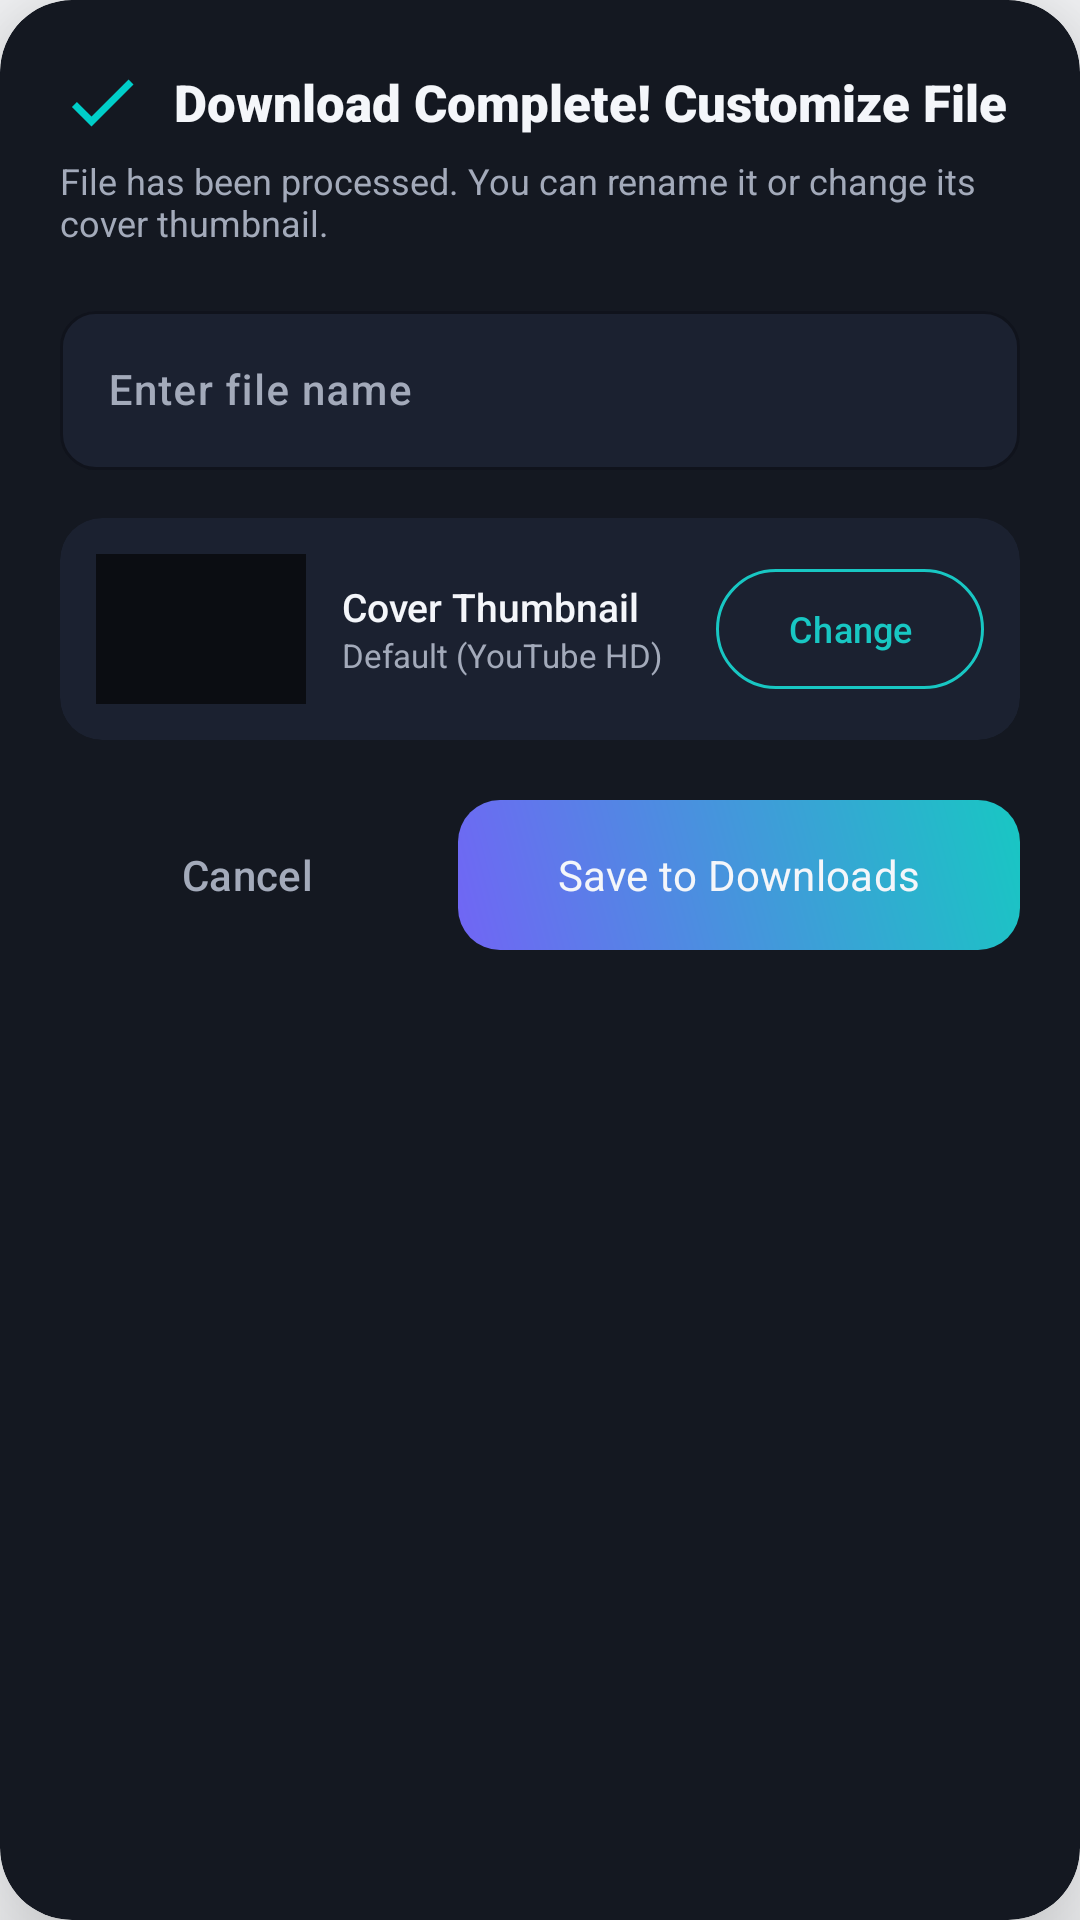

Screen size 1080w x 1920h. Icon name, then its box in pixels as {"x1": x1, "y1": y1, "x2": x2, "y2": y2}:
check: {"x1": 72, "y1": 79, "x2": 134, "y2": 127}
